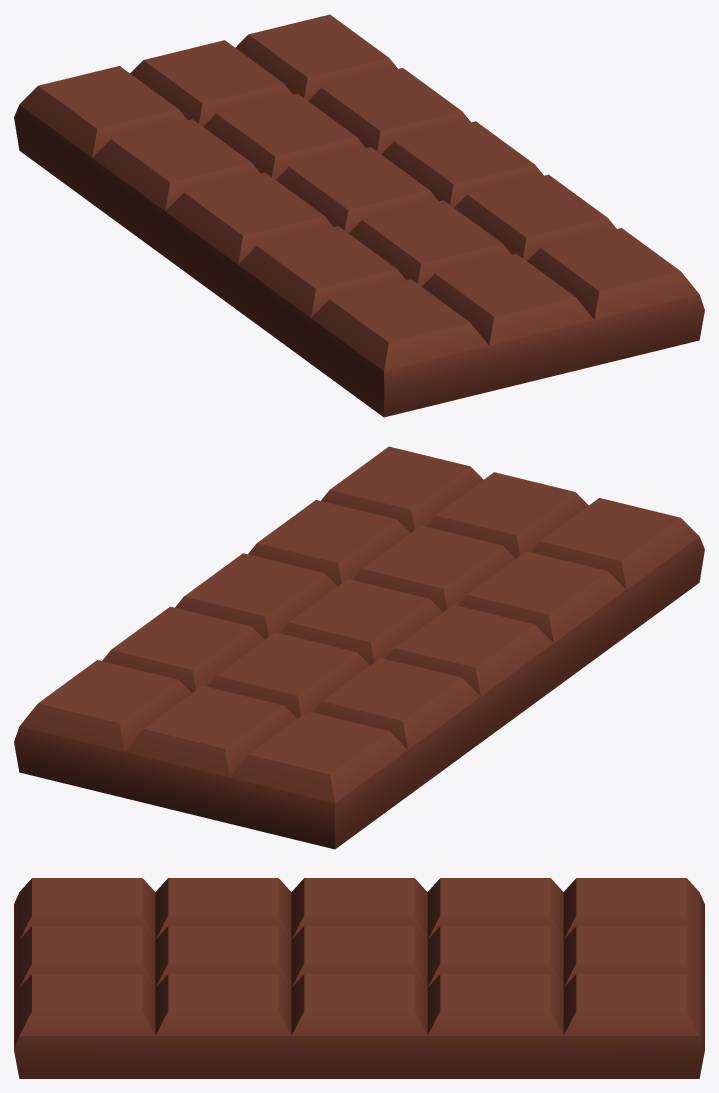
The model's file is chocolate_004.fbx.
3 views of the same model, one above another, from view 1: azimuth 30°, elevation 25°; view 2: azimuth 150°, elevation 25°; view 3: azimuth 270°, elevation 25° (orthographic). The views are drawn at different scales.
Parts seen in each view (by area): view 1: chocolate_004; view 2: chocolate_004; view 3: chocolate_004.
Part boxes in pixels (x1,y1,x2,y2): chocolate_004: (14,14,704,417); chocolate_004: (14,446,704,849); chocolate_004: (14,878,704,1078).
Size of the model in its own units: 5.08 by 10.16 by 1.01.
